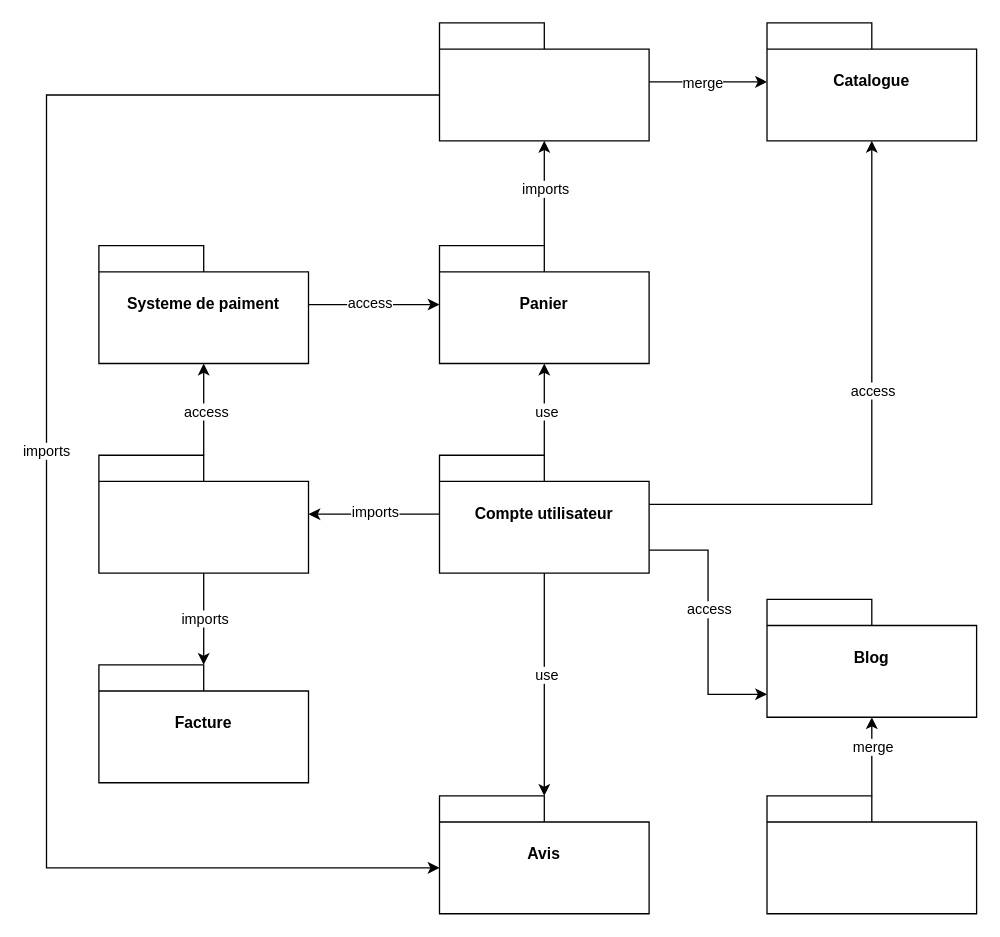
This 1000x937 diagram has some shape labels left out. The shapes that lost their labels are listed below. From the top down, each one's box as (x1, y1, x2, y2) in pixels, then its label:
(438, 22, 649, 141): Produit
(98, 454, 309, 573): Commande
(766, 795, 977, 914): Article
